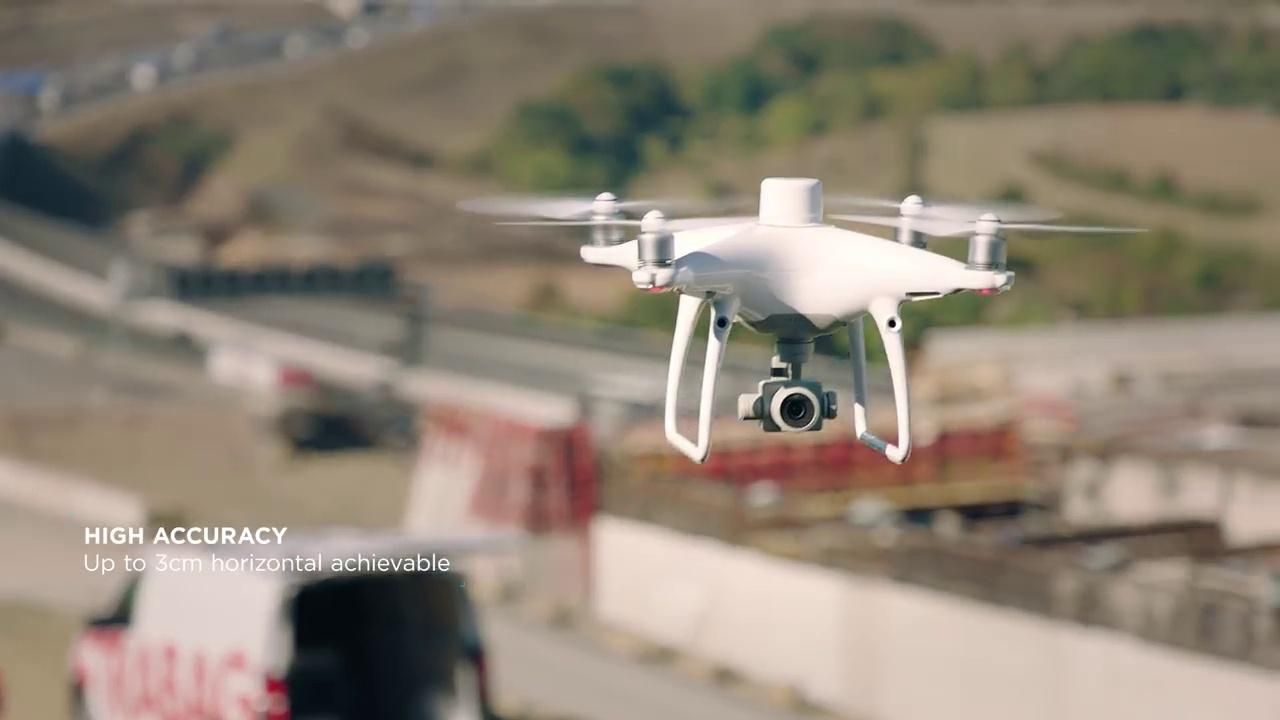drone: (453, 169, 1151, 472)
